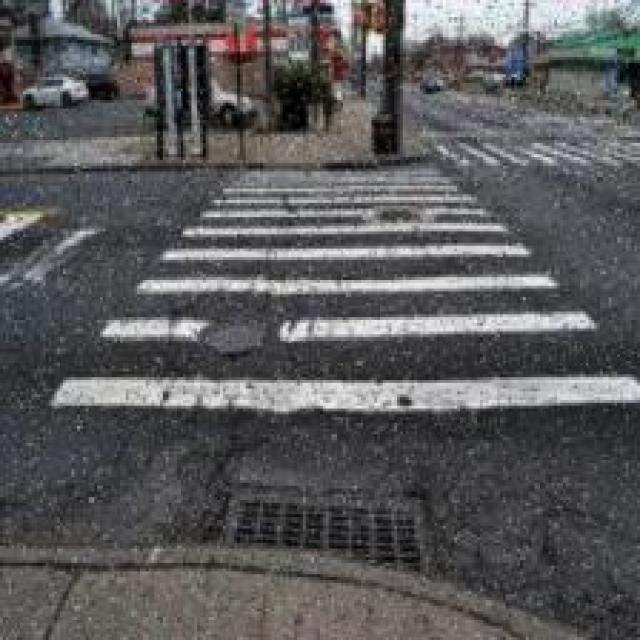zebra: (47, 167, 640, 419), (434, 131, 640, 182)
